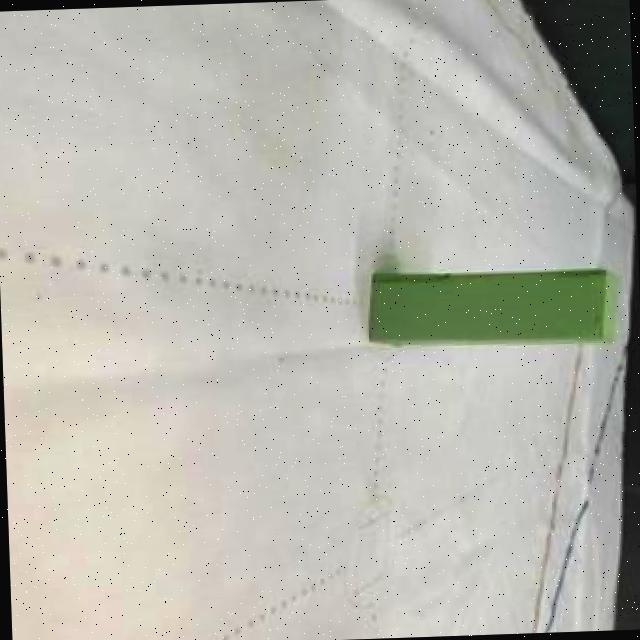greenbox: (367, 264, 628, 354)
